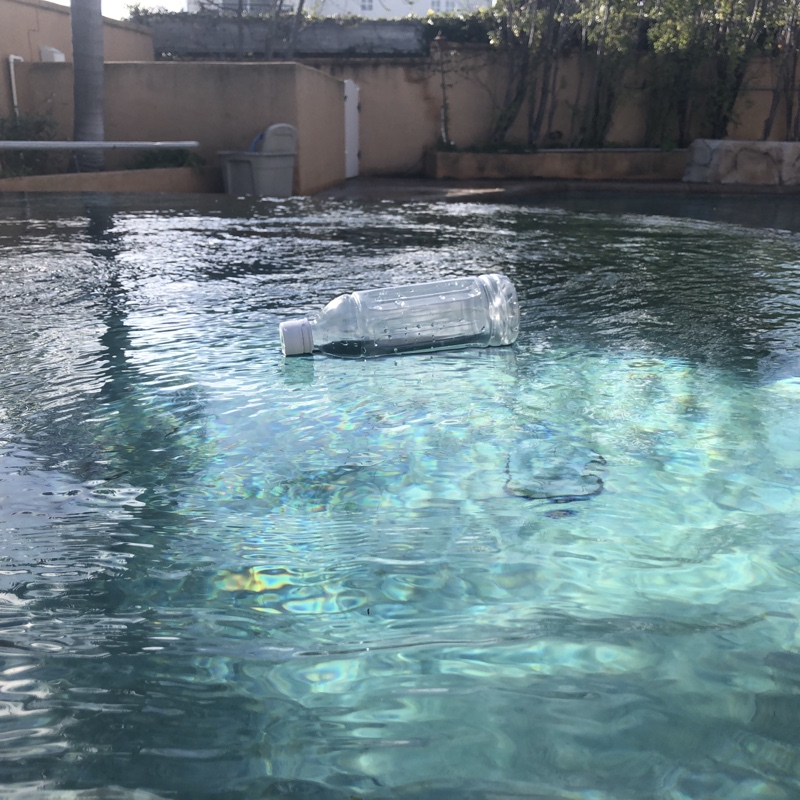Plastic Bottle: (276, 270, 522, 360)
